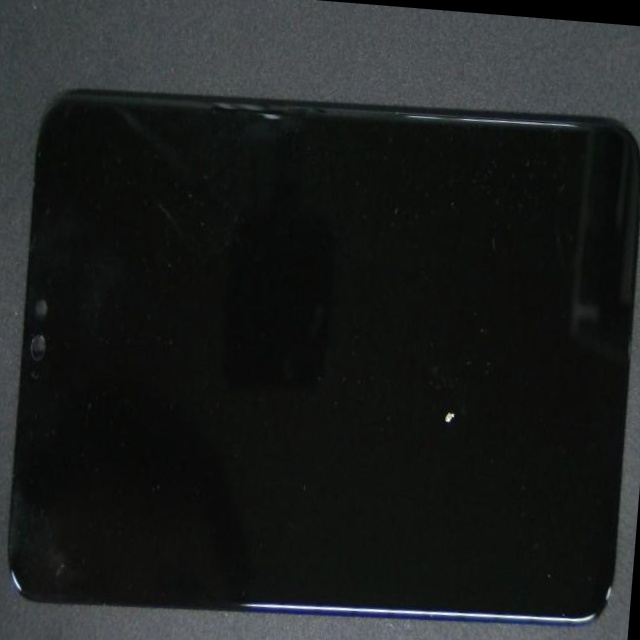stain: (173, 197, 640, 640)
